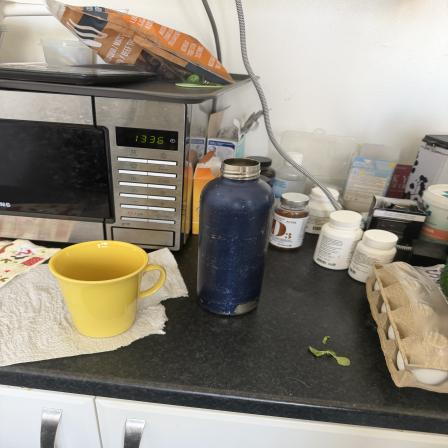blue_bottle: (198, 156, 269, 317)
yellow_cup: (46, 238, 168, 343)
